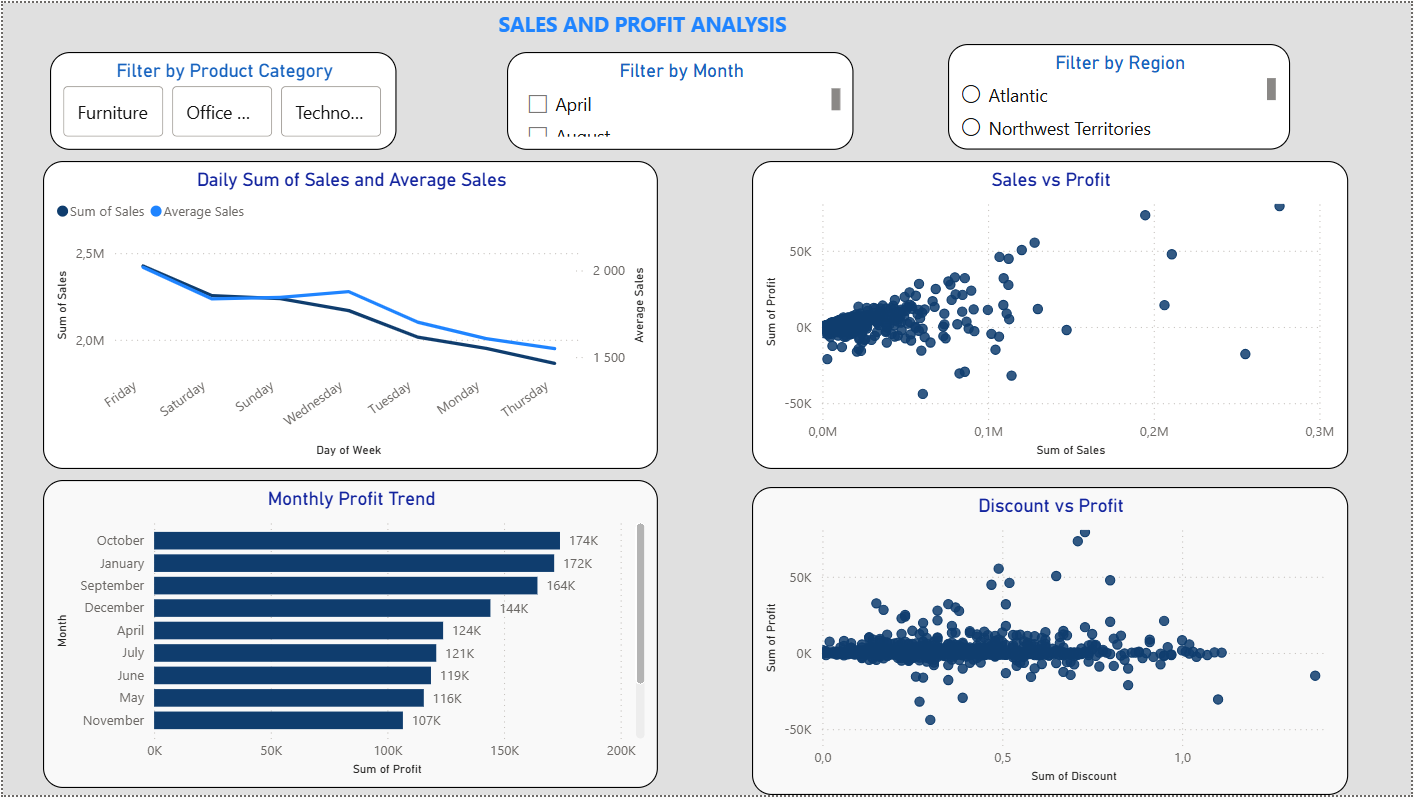

The page's visual inventory and layout, read from the dashboard file:
{"tool":"powerbi","page":{"name":"Page 4","canvas":[1280,720],"ordinal":3},"visuals":[{"type":"lineChart","title":"Daily Sum of Sales and Average Sales","fields":{"Category":["superstore_cleaned.Day of Week"],"Y":["Sum(superstore_cleaned.Sales)"],"Y2":["superstore_cleaned.Average Sales"]},"box":[36.4,143.6,559.1,280],"z":0},{"type":"barChart","title":"Monthly Profit Trend","fields":{"Category":["superstore_cleaned.Month"],"Y":["Sum(superstore_cleaned.Profit)"]},"box":[36.4,433.6,559.1,280],"z":1000},{"type":"scatterChart","title":"Sales vs Profit","fields":{"X":["Sum(superstore_cleaned.Sales)"],"Y":["Sum(superstore_cleaned.Profit)"],"Category":["superstore_cleaned.Product Name"]},"box":[680.9,143.6,541.8,280],"z":2000},{"type":"scatterChart","title":"Discount vs Profit","fields":{"X":["Sum(superstore_cleaned.Discount)"],"Y":["Sum(superstore_cleaned.Profit)"],"Category":["superstore_cleaned.Product Name"]},"box":[680.9,440,541.8,280],"z":3000},{"type":"advancedSlicerVisual","title":"Filter by Product Category","fields":{"Values":["superstore_cleaned.Product Category"]},"box":[42.7,44.5,315.5,89.1],"z":3001},{"type":"slicer","title":"Filter by Month","fields":{"Values":["superstore_cleaned.Month"]},"box":[458.2,44.5,315.5,89.1],"z":3002},{"type":"listSlicer","title":"Filter by Region","fields":{"Values":["superstore_cleaned.Region"]},"box":[859.1,37.3,310.9,96.4],"z":3003},{"type":"textbox","title":"SALES AND PROFIT ANALYSIS","box":[445.5,6.4,300,30.9],"z":3004}]}

Visuals, with their boxes in screenshot pixels (x1, y1, x2, y2), scaled from the page's 1280x720 canvas onto the 1414x800 screenshot:
"Daily Sum of Sales and Average Sales" lineChart: Rect(40, 160, 658, 471)
"Monthly Profit Trend" barChart: Rect(40, 482, 658, 793)
"Sales vs Profit" scatterChart: Rect(752, 160, 1351, 471)
"Discount vs Profit" scatterChart: Rect(752, 489, 1351, 799)
"Filter by Product Category" advancedSlicerVisual: Rect(47, 49, 396, 148)
"Filter by Month" slicer: Rect(506, 49, 855, 148)
"Filter by Region" listSlicer: Rect(949, 41, 1292, 149)
"SALES AND PROFIT ANALYSIS" textbox: Rect(492, 7, 824, 41)
